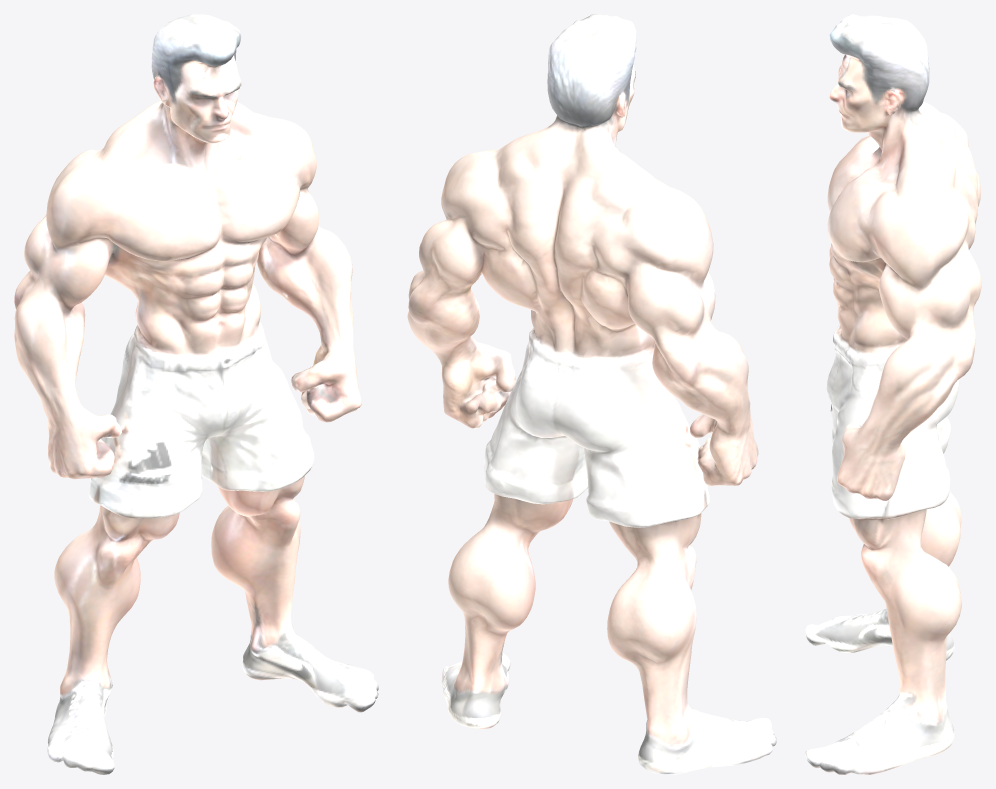
3 views of the same model, side by side, from view 1: azimuth 30°, elevation 25°; view 2: azimuth 150°, elevation 25°; view 3: azimuth 270°, elevation 25° (orthographic). The views are drawn at different scales.
Parts seen in each view (by area): view 1: file1; view 2: file1; view 3: file1.
Boxes of the visible parts, x1,y1,x2,y2 form: file1: (14,14,378,774); file1: (407,14,776,774); file1: (805,14,981,774).
Bounding box in the file's own units: 0.9752 × 1.99 × 0.4665.
